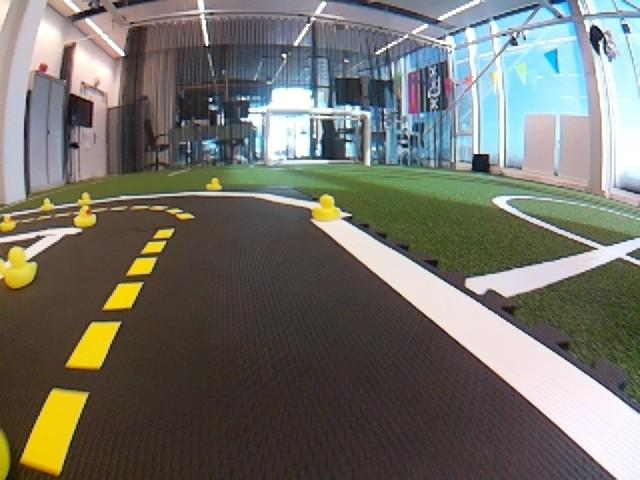Duckies: (0, 246, 36, 289), (311, 192, 342, 221), (73, 206, 96, 227), (205, 176, 223, 190), (1, 216, 16, 232), (76, 192, 91, 205), (41, 198, 53, 211)
